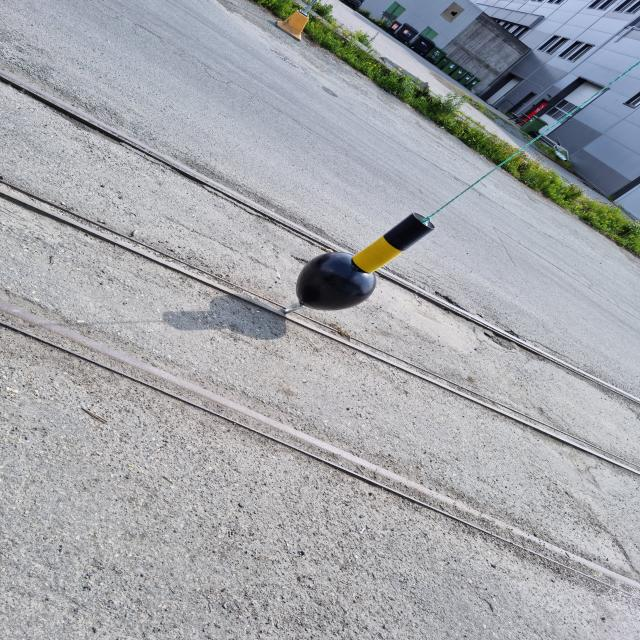east: (295, 213, 435, 311)
